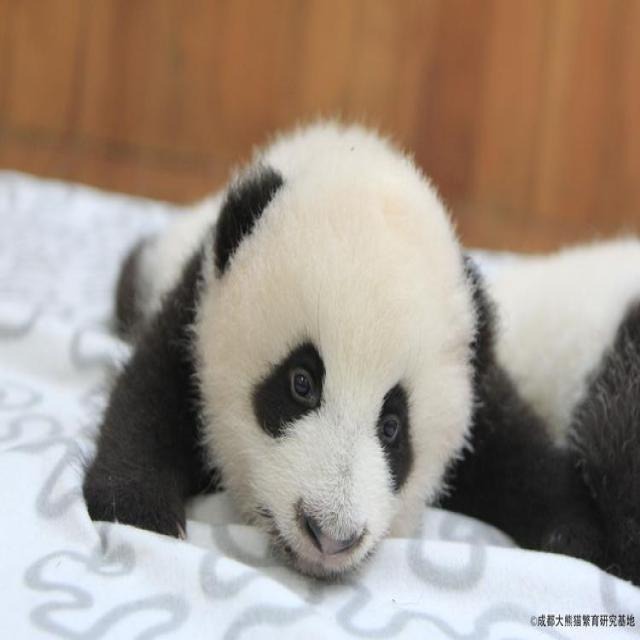panda: (104, 118, 536, 570)
